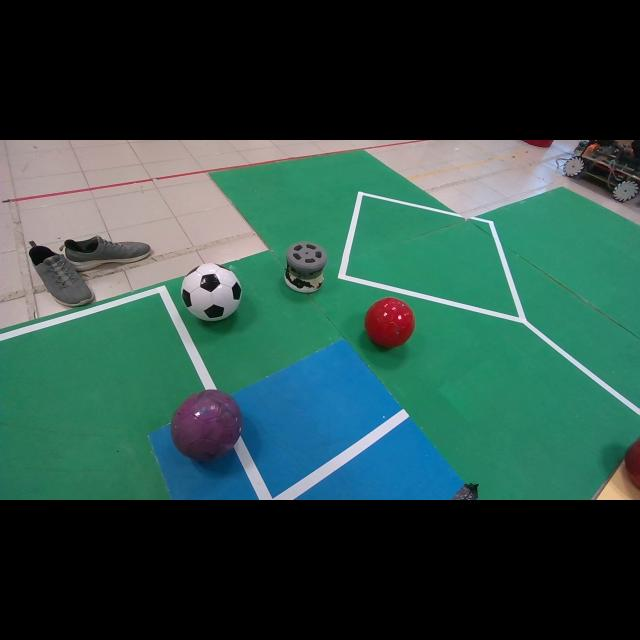P: (170, 390, 242, 461)
R: (364, 298, 415, 348), (625, 438, 640, 488)
